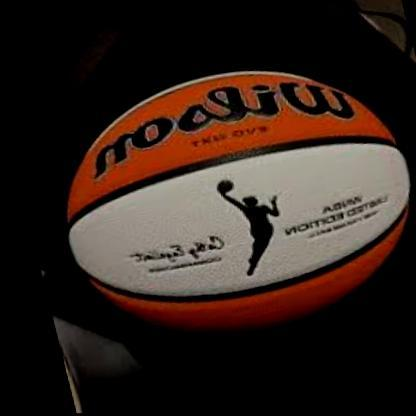basketball: (30, 45, 416, 370)
